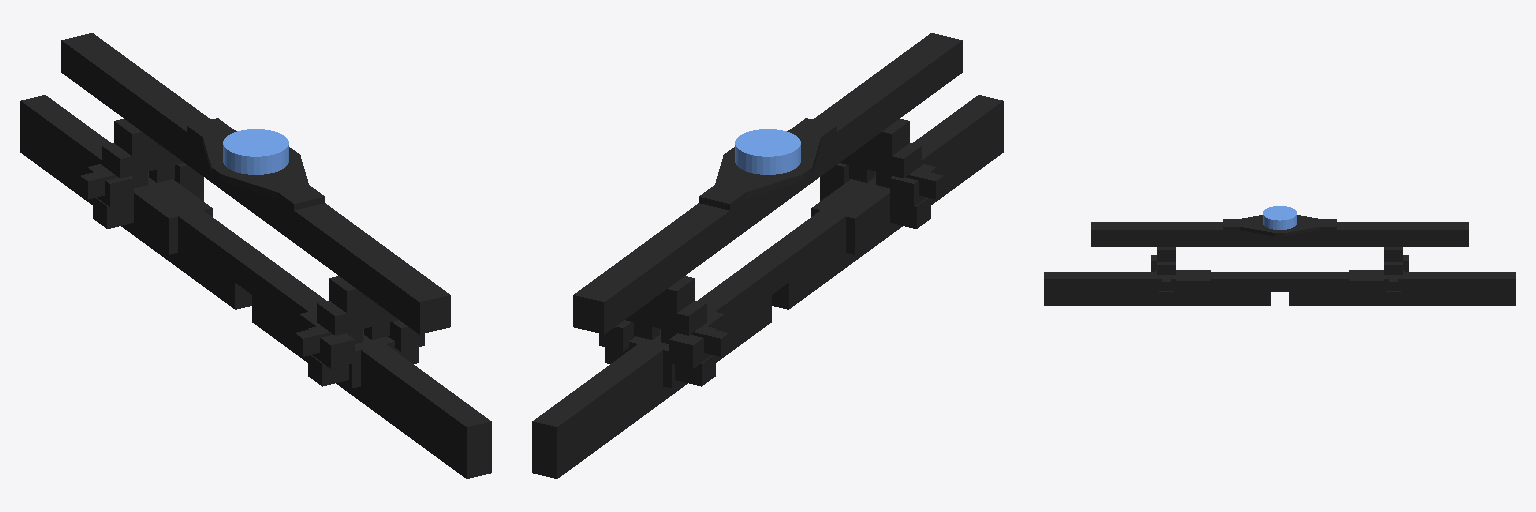
The robot description file, URDF, robot "gripper_beam_1C_90deg_3mm":
<?xml version="1.0" ?>
<robot name="gripper_beam_1C_90deg_3mm">

    <!-- Import Rviz colors -->
    <material name="Grey">
        <color rgba="0.2 0.2 0.2 1."/>
    </material>
    <material name="Orange">
        <color rgba="1.0 0.423529411765 0.0392156862745 0.5"/>
    </material>
    <material name="Blue">
        <color rgba="0.5 0.7 1.0 0.5"/>
    </material>
    <material name="beam_color">
        <color rgba="0.72 0.60 0.30 1.0"/>
    </material>


    <!-- Joint from Base to FT-Sensor Below -->
    <joint name="joint_ft" type="fixed">
        <parent link="base"/>
        <child link="ft_sensor"/>
        <origin rpy="0 0 0 " xyz="0.0 0.0 0.0"/>
        <dynamics damping="0.5"/>
    </joint>

    <!-- Joint from FT-Sensor to Gripper-Beam Below -->
    <joint name="joint_gripper" type="fixed">
        <parent link="ft_sensor"/>
        <child link="gripper_beam_1C_90deg_3mm"/>
        <origin rpy="0 0 0 " xyz="0.0 0.0 0.0"/>
        <dynamics damping="0.5"/>
    </joint>

    <!-- Joint from Gripper-Beam to Virtual Member Below -->
    <joint name="joint_member" type="fixed">
        <parent link="gripper_beam_1C_90deg_3mm"/>
        <child link="member"/>
        <!-- Offset 40 mm (beam half-depth) + 155 mm (beam offset from world origin)-->
        <origin rpy="0 0 0 " xyz="0.0 0.0 -0.195"/>
        <dynamics damping="0.5"/>
    </joint>


    <!-- Virtual Base Link -->
    <link name="base">
      <inertial>
          <origin rpy="0 0 0" xyz="0 0 0"/>
          <mass value="0.001"/>
          <inertia ixx="0.001" ixy="0" ixz="0" iyy="0.001" iyz="0" izz="0.001"/>
      </inertial>
    </link>

    <!-- Virtual Member Link to Computer Distance to Target -->
    <link name="member">
      <inertial>
          <origin rpy="0 0 0" xyz="0 0 0"/>
          <mass value="0.01"/>
          <inertia ixx="0.001" ixy="0" ixz="0" iyy="0.001" iyz="0" izz="0.001"/>
      </inertial>
    </link>

    <!-- FT-Sensor Link -->
    <link name="ft_sensor">
    <inertial>
          <mass value="1.964"/>
          <inertia ixx="0.001" ixy="0" ixz="0" iyy="0.001" iyz="0" izz="0.001"/>
    </inertial>
    <visual>
        <material name="Blue"/>
        <geometry>
          <mesh filename="sensor/meshes/visual/ft_sensor.stl"/>
        </geometry>
    </visual>
    <collision>
        <geometry>
          <mesh filename="sensor/meshes/collision/ft_sensor.stl"/>
        </geometry>
    </collision>
    </link>

    <!-- EF Link -->
    <link name="gripper_beam_1C_90deg_3mm">
        <inertial>
            <!--center of mass origin and mass should was updated from ABB's calibration routine 20.02.2019-->
            <origin rpy="0 0 0" xyz="0.0 0.0 0.09963736"/>
            <mass value="8.56"/>
            <!--origin rpy="0 0 0" xyz="-8.173542509136381e-19 4.919694157880184e-18 -0.12804086440536944"/-->
            <!--mass value="4.310275841129159"/-->
            <!--inertia ixx="0.0009413956070068256" ixy="7.905640841040137e-22" ixz="-4.517509052022935e-22" iyy="5.320772089153263e-05" iyz="-8.608675500661352e-21" izz="0.0008984210008906098"/-->
            <inertia ixx="0.01" ixy="0" ixz="0" iyy="0.01" iyz="0" izz="0.01"/>
        </inertial>
        <visual>
            <geometry>
                <mesh filename="gripper_beam_1C_90deg_3mm/meshes/visual/gripper_beam_1C_90deg_3mm.stl"/>
            </geometry>
            <material name="Grey"/>
        </visual>
        <collision>
            <geometry>
                <mesh filename="gripper_beam_1C_90deg_3mm/meshes/collision/gripper_beam_1C_90deg_3mm_0.stl"/>
            </geometry>
        </collision>
        <collision>
            <geometry>
                <mesh filename="gripper_beam_1C_90deg_3mm/meshes/collision/gripper_beam_1C_90deg_3mm_1.stl"/>
            </geometry>
        </collision>
        <collision>
            <geometry>
                <mesh filename="gripper_beam_1C_90deg_3mm/meshes/collision/gripper_beam_1C_90deg_3mm_10.stl"/>
            </geometry>
        </collision>
        <collision>
            <geometry>
                <mesh filename="gripper_beam_1C_90deg_3mm/meshes/collision/gripper_beam_1C_90deg_3mm_11.stl"/>
            </geometry>
        </collision>
        <collision>
            <geometry>
                <mesh filename="gripper_beam_1C_90deg_3mm/meshes/collision/gripper_beam_1C_90deg_3mm_12.stl"/>
            </geometry>
        </collision>
        <collision>
            <geometry>
                <mesh filename="gripper_beam_1C_90deg_3mm/meshes/collision/gripper_beam_1C_90deg_3mm_13.stl"/>
            </geometry>
        </collision>
        <collision>
            <geometry>
                <mesh filename="gripper_beam_1C_90deg_3mm/meshes/collision/gripper_beam_1C_90deg_3mm_14.stl"/>
            </geometry>
        </collision>
        <collision>
            <geometry>
                <mesh filename="gripper_beam_1C_90deg_3mm/meshes/collision/gripper_beam_1C_90deg_3mm_15.stl"/>
            </geometry>
        </collision>
        <collision>
            <geometry>
                <mesh filename="gripper_beam_1C_90deg_3mm/meshes/collision/gripper_beam_1C_90deg_3mm_16.stl"/>
            </geometry>
        </collision>
        <collision>
            <geometry>
                <mesh filename="gripper_beam_1C_90deg_3mm/meshes/collision/gripper_beam_1C_90deg_3mm_17.stl"/>
            </geometry>
        </collision>
        <collision>
            <geometry>
                <mesh filename="gripper_beam_1C_90deg_3mm/meshes/collision/gripper_beam_1C_90deg_3mm_18.stl"/>
            </geometry>
        </collision>
        <collision>
            <geometry>
                <mesh filename="gripper_beam_1C_90deg_3mm/meshes/collision/gripper_beam_1C_90deg_3mm_19.stl"/>
            </geometry>
        </collision>
        <collision>
            <geometry>
                <mesh filename="gripper_beam_1C_90deg_3mm/meshes/collision/gripper_beam_1C_90deg_3mm_2.stl"/>
            </geometry>
        </collision>
        <collision>
            <geometry>
                <mesh filename="gripper_beam_1C_90deg_3mm/meshes/collision/gripper_beam_1C_90deg_3mm_20.stl"/>
            </geometry>
        </collision>
        <collision>
            <geometry>
                <mesh filename="gripper_beam_1C_90deg_3mm/meshes/collision/gripper_beam_1C_90deg_3mm_21.stl"/>
            </geometry>
        </collision>
        <collision>
            <geometry>
                <mesh filename="gripper_beam_1C_90deg_3mm/meshes/collision/gripper_beam_1C_90deg_3mm_22.stl"/>
            </geometry>
        </collision>
        <collision>
            <geometry>
                <mesh filename="gripper_beam_1C_90deg_3mm/meshes/collision/gripper_beam_1C_90deg_3mm_23.stl"/>
            </geometry>
        </collision>
        <collision>
            <geometry>
                <mesh filename="gripper_beam_1C_90deg_3mm/meshes/collision/gripper_beam_1C_90deg_3mm_24.stl"/>
            </geometry>
        </collision>
        <collision>
            <geometry>
                <mesh filename="gripper_beam_1C_90deg_3mm/meshes/collision/gripper_beam_1C_90deg_3mm_3.stl"/>
            </geometry>
        </collision>
        <collision>
            <geometry>
                <mesh filename="gripper_beam_1C_90deg_3mm/meshes/collision/gripper_beam_1C_90deg_3mm_4.stl"/>
            </geometry>
        </collision>
        <collision>
            <geometry>
                <mesh filename="gripper_beam_1C_90deg_3mm/meshes/collision/gripper_beam_1C_90deg_3mm_5.stl"/>
            </geometry>
        </collision>
        <collision>
            <geometry>
                <mesh filename="gripper_beam_1C_90deg_3mm/meshes/collision/gripper_beam_1C_90deg_3mm_6.stl"/>
            </geometry>
        </collision>
        <collision>
            <geometry>
                <mesh filename="gripper_beam_1C_90deg_3mm/meshes/collision/gripper_beam_1C_90deg_3mm_7.stl"/>
            </geometry>
        </collision>
        <collision>
            <geometry>
                <mesh filename="gripper_beam_1C_90deg_3mm/meshes/collision/gripper_beam_1C_90deg_3mm_8.stl"/>
            </geometry>
        </collision>
        <collision>
            <geometry>
                <mesh filename="gripper_beam_1C_90deg_3mm/meshes/collision/gripper_beam_1C_90deg_3mm_9.stl"/>
            </geometry>
        </collision>
    </link>
</robot>

--- Render facts (derived) ---
Views: 3 orthographic renders of the robot side by side, from view 1: azimuth 30°, elevation 25°; view 2: azimuth 150°, elevation 25°; view 3: azimuth 270°, elevation 25°.
Model gripper_beam_1C_90deg_3mm with 4 links and 3 joints (3 fixed), rooted at base, posed all joints at 0.
Links seen in each view (by area): view 1: gripper_beam_1C_90deg_3mm, ft_sensor; view 2: gripper_beam_1C_90deg_3mm, ft_sensor; view 3: gripper_beam_1C_90deg_3mm, ft_sensor.
Boxes of the visible links, x1,y1,x2,y2 form: gripper_beam_1C_90deg_3mm: [20, 33, 491, 478]; ft_sensor: [223, 129, 288, 174]; gripper_beam_1C_90deg_3mm: [532, 33, 1003, 478]; ft_sensor: [735, 129, 800, 174]; gripper_beam_1C_90deg_3mm: [1044, 215, 1515, 305]; ft_sensor: [1263, 206, 1296, 229].
Bounding box of the posed robot: 0.208 × 1.25 × 0.262 m (x, y, z).
2 mesh visuals loaded from 2 distinct referenced files (2 binary STL).
